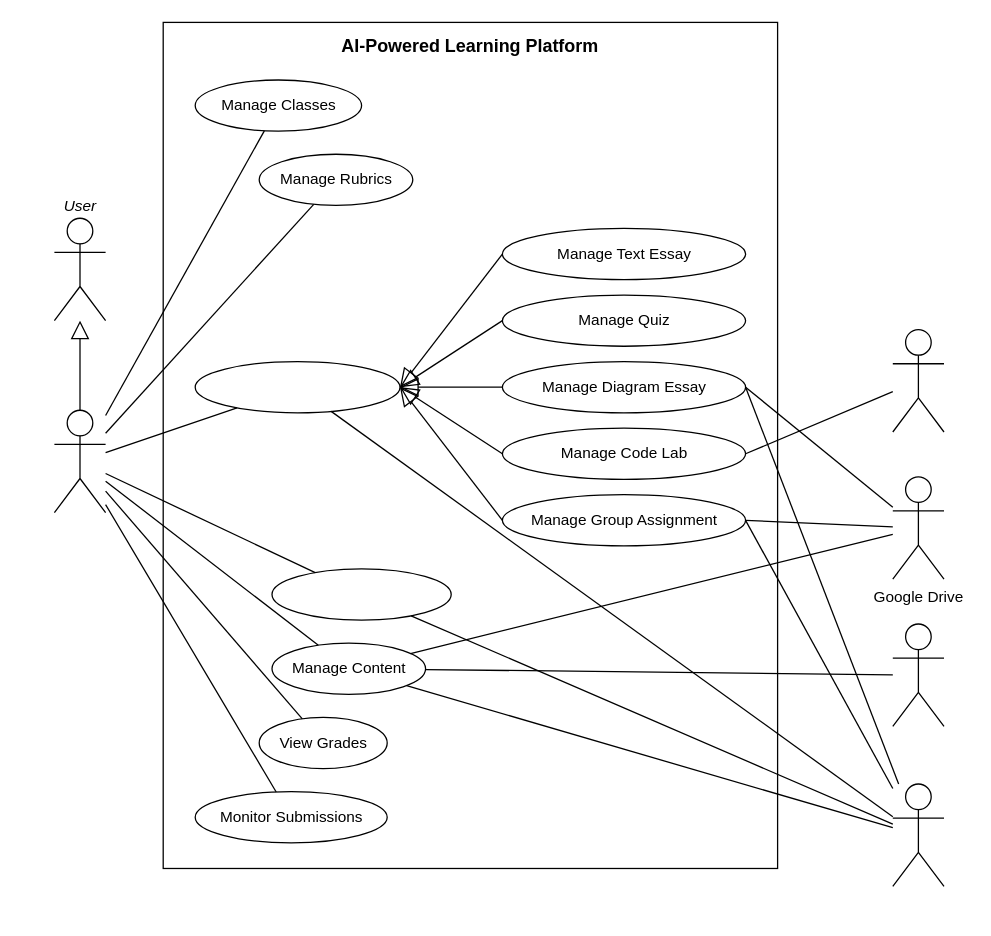
Image size: 991x936. Some labels were removed from this diagram. The box of each missing label's shape, as (x1, y1, x2, y2) in pixels:
AI Service: (892, 783, 944, 886)
Code Sandbox: (892, 328, 944, 432)
Manage Assignments: (194, 360, 400, 413)
Manage Templates: (271, 568, 451, 620)
Subject Manager: (53, 409, 106, 513)
YouTube: (892, 623, 944, 726)
